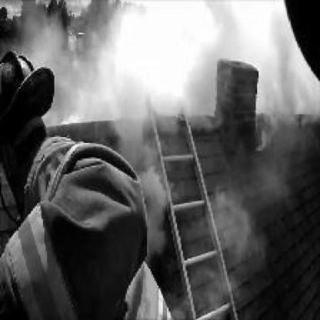Smoke: (107, 72, 203, 104)
other: (12, 228, 64, 308)
